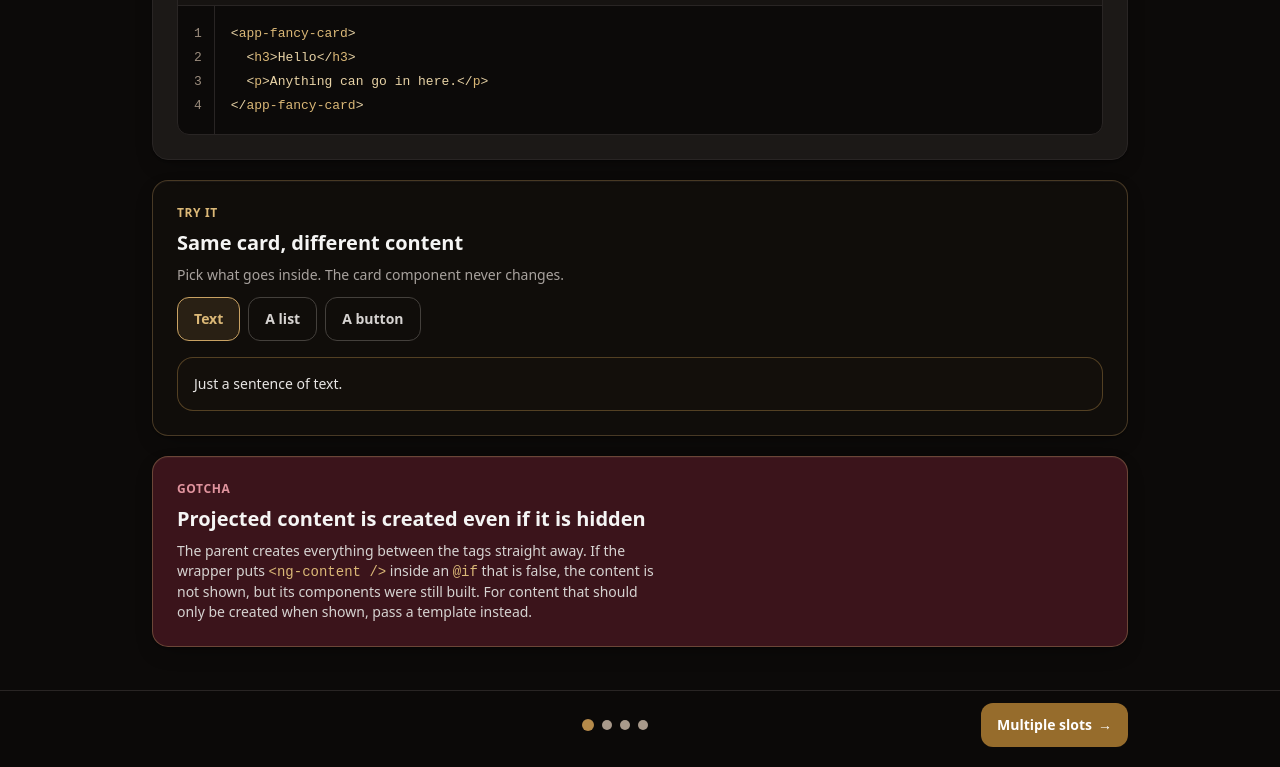
ContentProjectionComponent › shows the parent's text inside the card, and swaps it for a list or a button
(page scrolled)
Click the button "A list".
click(283, 319)  # box [248,297,317,341]
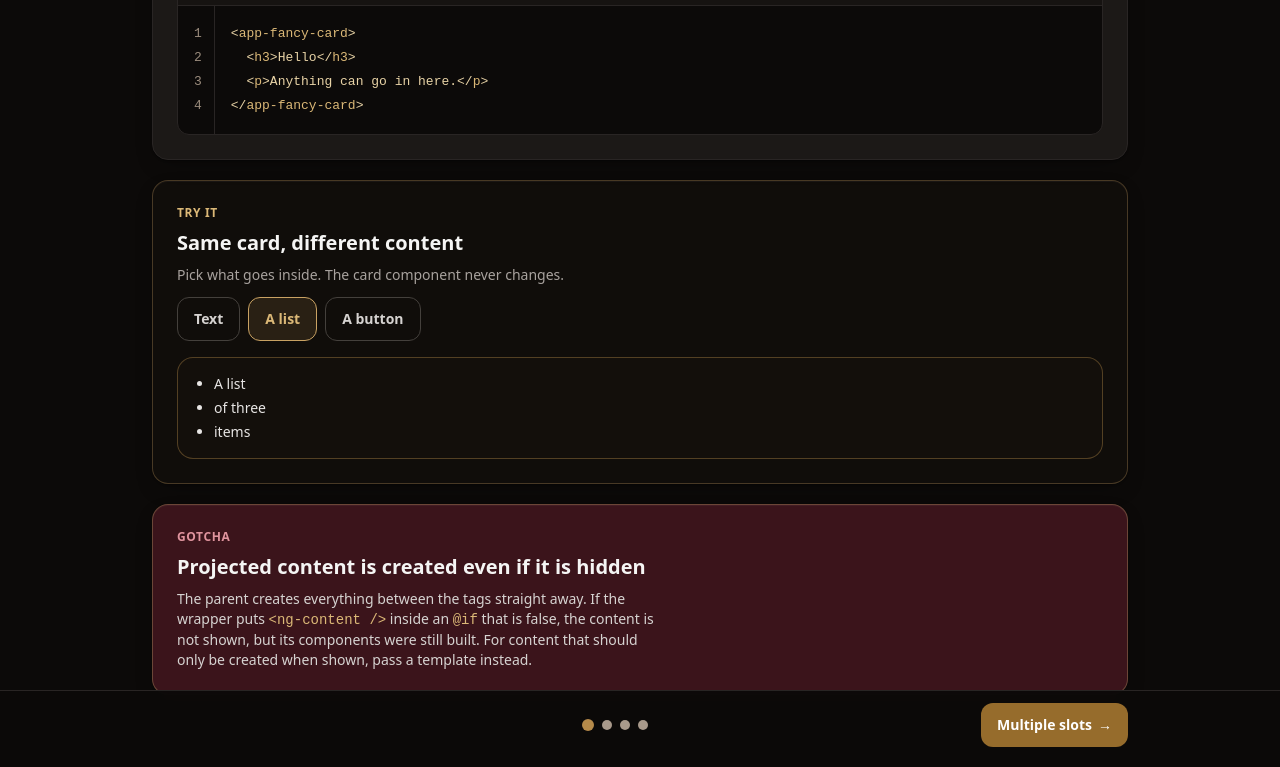
Expected: the list is shown, [214,374,266,441]
Click the button "A button".
click(373, 319)  # box [325,297,421,341]
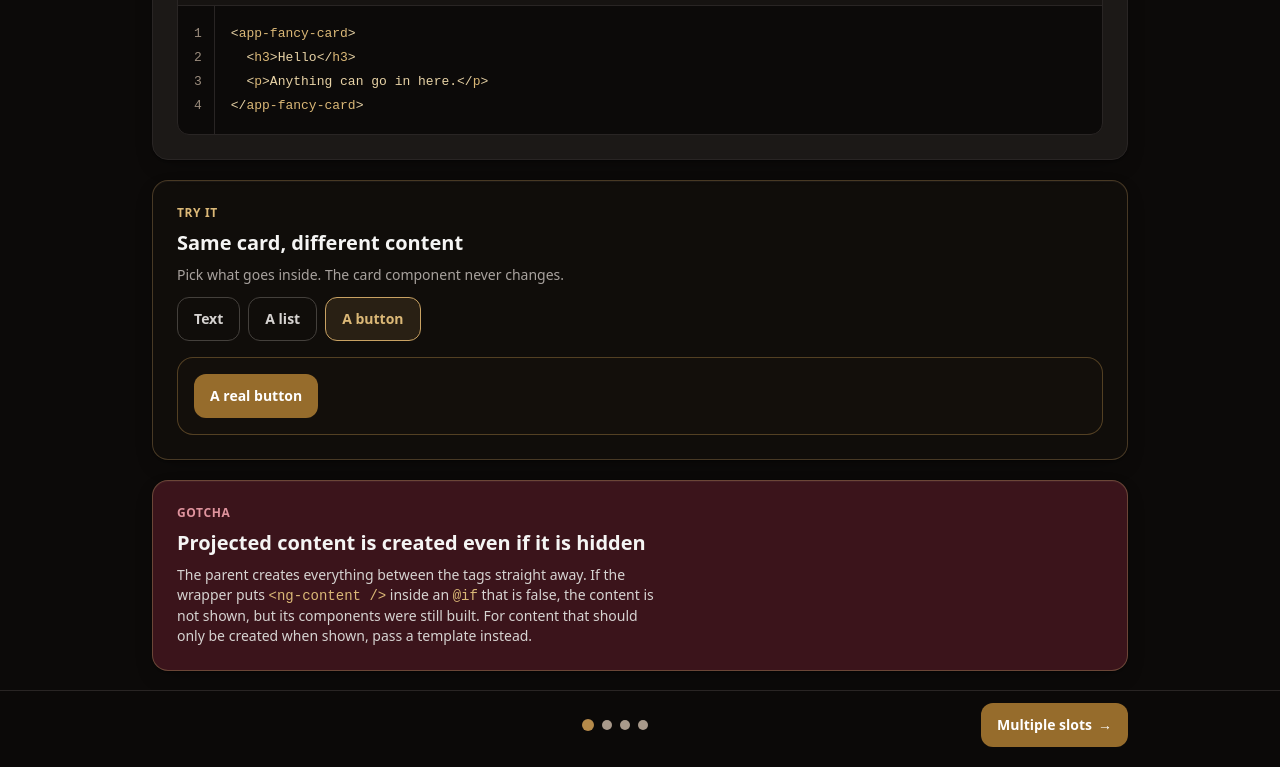
Expected: the button "A real button" is shown, [194,374,318,418]
